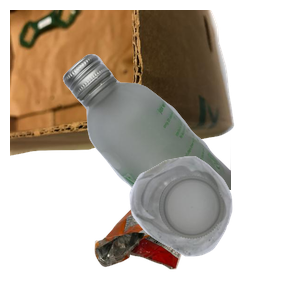cardboard: (10, 10, 237, 158)
glass: (60, 51, 300, 231)
plastic: (127, 154, 300, 300)
trash: (92, 174, 272, 300)
